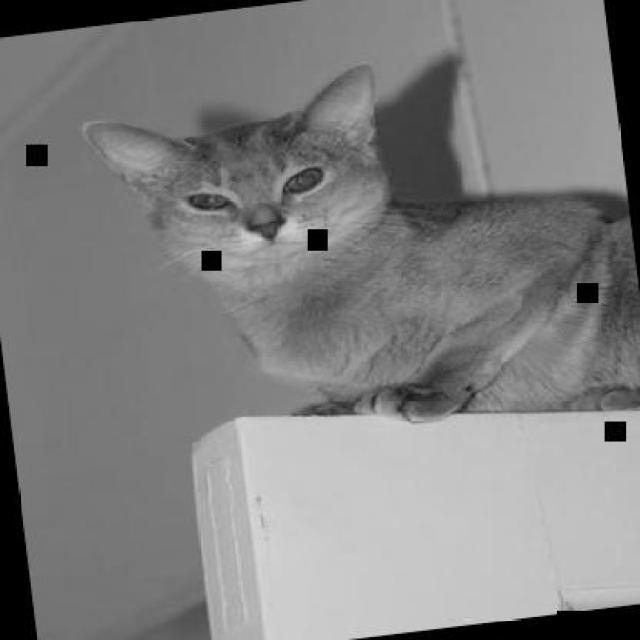Cat: (79, 31, 638, 480)
